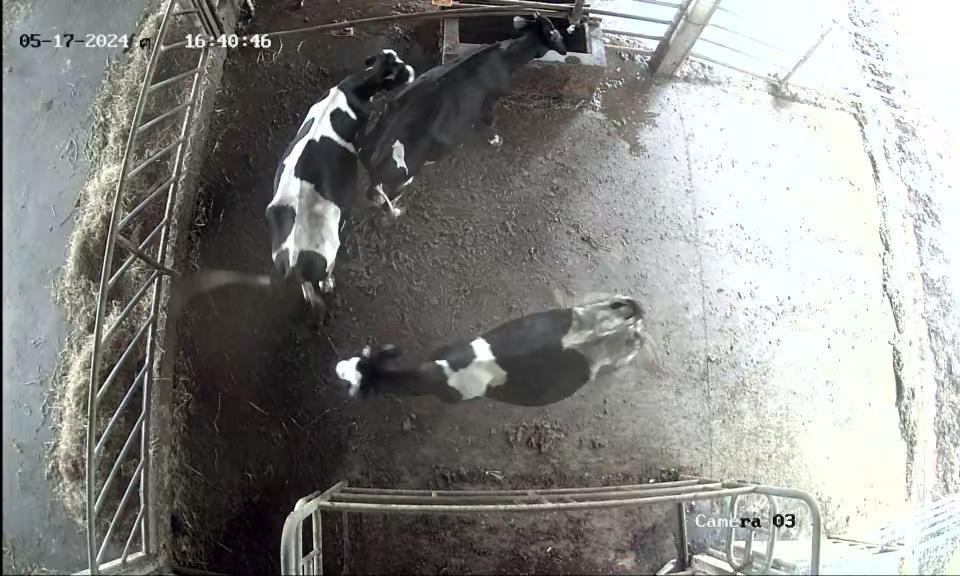drink: (478, 2, 571, 91)
stand: (311, 291, 665, 430), (246, 46, 421, 320)
